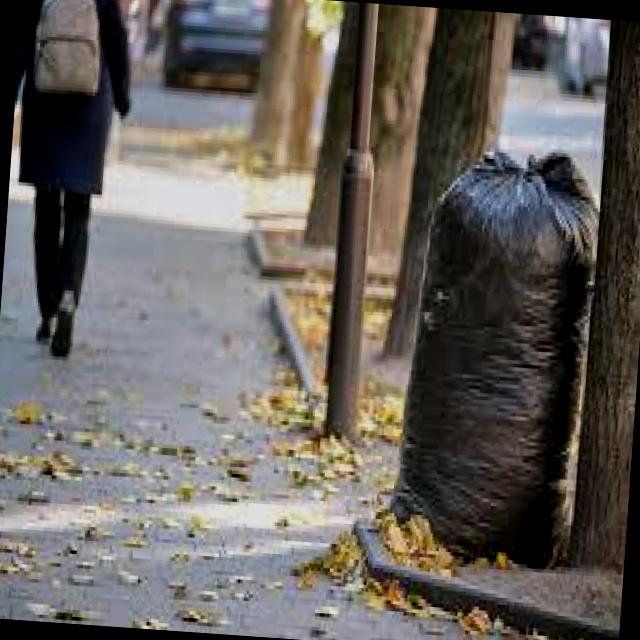garbage: (387, 125, 609, 578)
